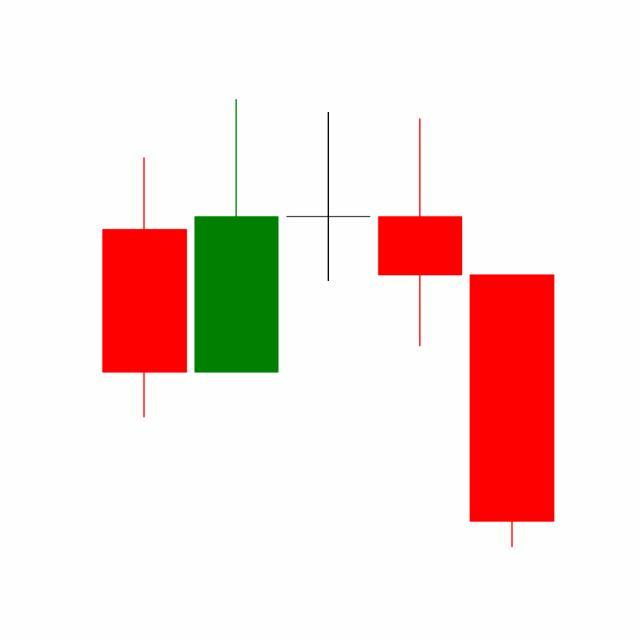Marubozu: (466, 273, 559, 552)
